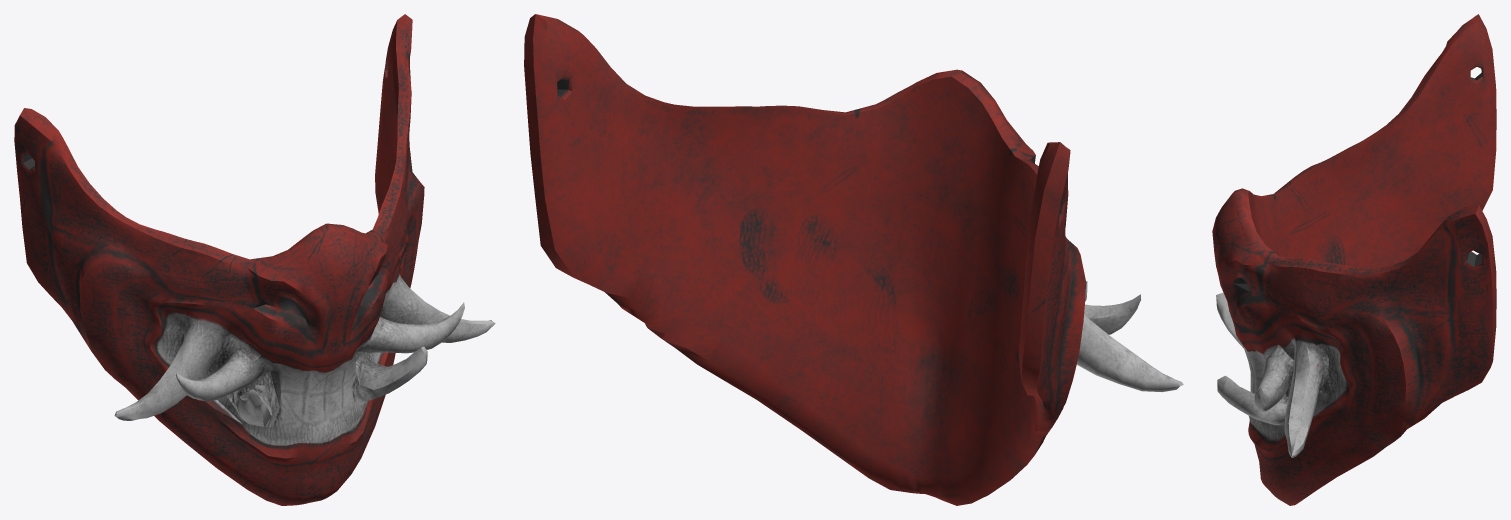
The model's file is samurai_mask.glb.
3 views of the same model, side by side, from view 1: azimuth 30°, elevation 25°; view 2: azimuth 150°, elevation 25°; view 3: azimuth 270°, elevation 25° (orthographic). The views are drawn at different scales.
Parts seen in each view (by area): view 1: polySurface1; view 2: polySurface1; view 3: polySurface1.
Part boxes in pixels (box(x1,y1,x2,y2)): polySurface1: box(14, 14, 495, 505); polySurface1: box(524, 14, 1183, 505); polySurface1: box(1212, 14, 1496, 505).
Size of the model in its own units: 0.9352 by 0.844 by 0.5644.
1 material, 1 textured.
